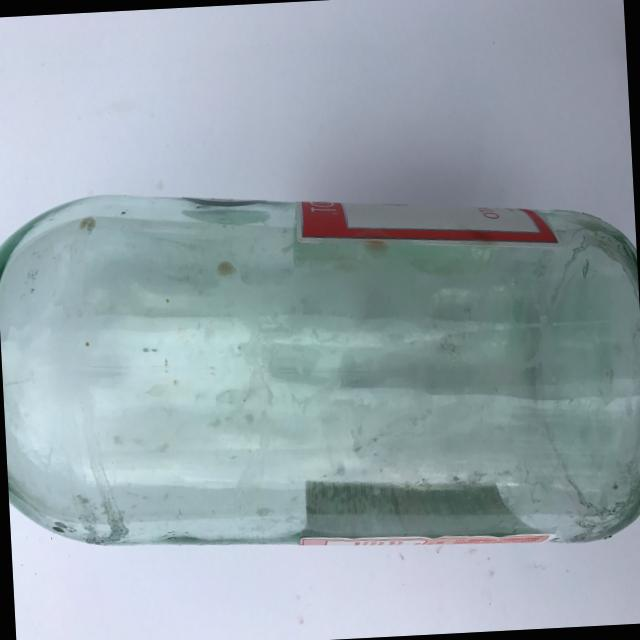Glass: (0, 158, 640, 593)
